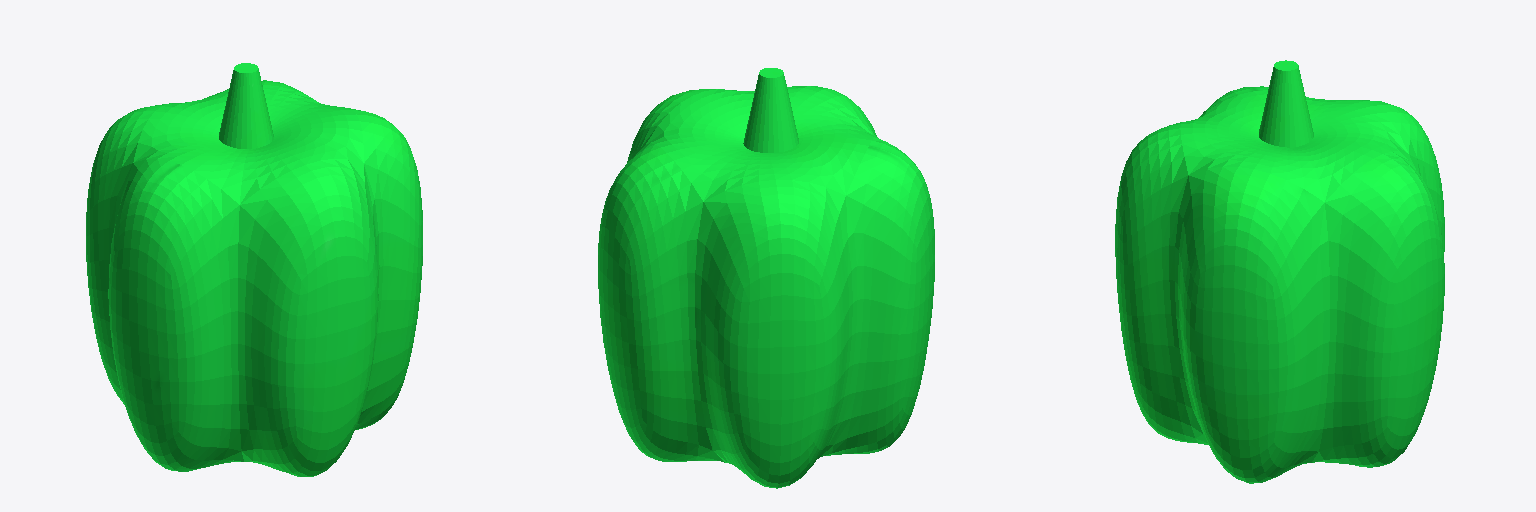
3 renders of one model, left to right at view 1: azimuth 30°, elevation 25°; view 2: azimuth 150°, elevation 25°; view 3: azimuth 270°, elevation 25°, orthographic.
Visible parts, largest first — view 1: 円柱, 円柱.001; view 2: 円柱, 円柱.001; view 3: 円柱, 円柱.001.
Part boxes in pixels (bbox=[...]): 円柱: bbox=[86, 80, 422, 476]; 円柱.001: bbox=[219, 63, 273, 148]; 円柱: bbox=[598, 86, 934, 488]; 円柱.001: bbox=[743, 68, 798, 152]; 円柱: bbox=[1115, 86, 1444, 483]; 円柱.001: bbox=[1259, 60, 1313, 147].
Size of the model in its own units: 353 by 431 by 344.
Materials: 2 (1 with a texture image).